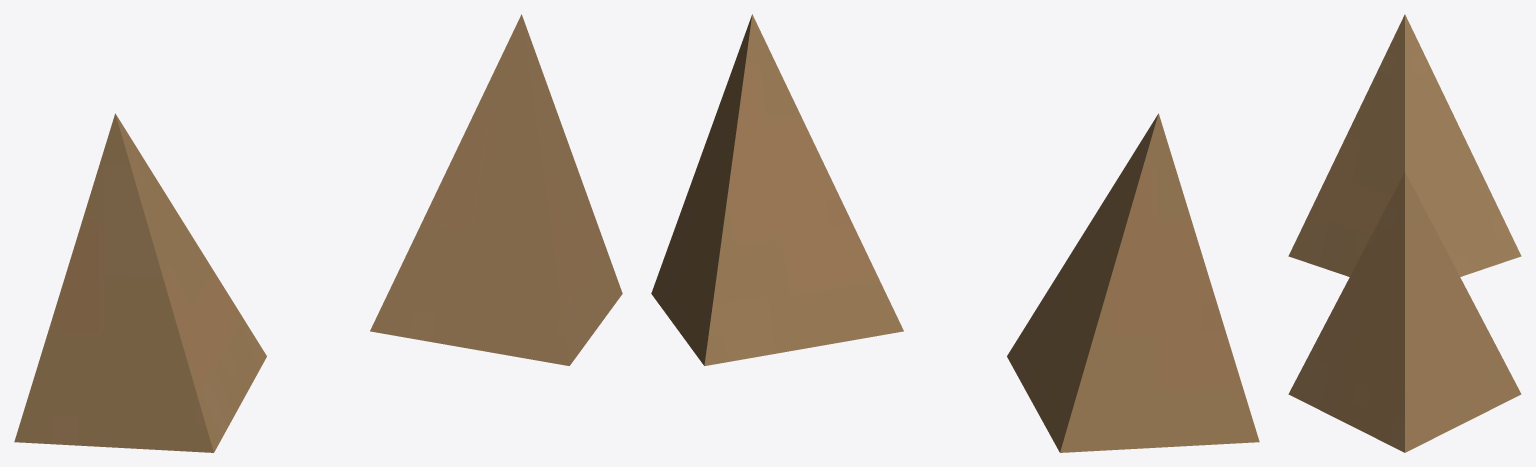
File: acc_ear_cat.glb
3 views of the same model, side by side, from view 1: azimuth 30°, elevation 25°; view 2: azimuth 150°, elevation 25°; view 3: azimuth 270°, elevation 25° (orthographic). The views are drawn at different scales.
Visible parts, largest first — view 1: acc_ear_cat; view 2: acc_ear_cat; view 3: acc_ear_cat.
Boxes of the visible parts, x1,y1,x2,y2 form: acc_ear_cat: (14,14,622,452); acc_ear_cat: (651,14,1259,452); acc_ear_cat: (1288,14,1521,452).
Bounding box in the file's own units: 0.2396 × 0.1145 × 0.1.
Materials: 2 (2 with a texture image).
